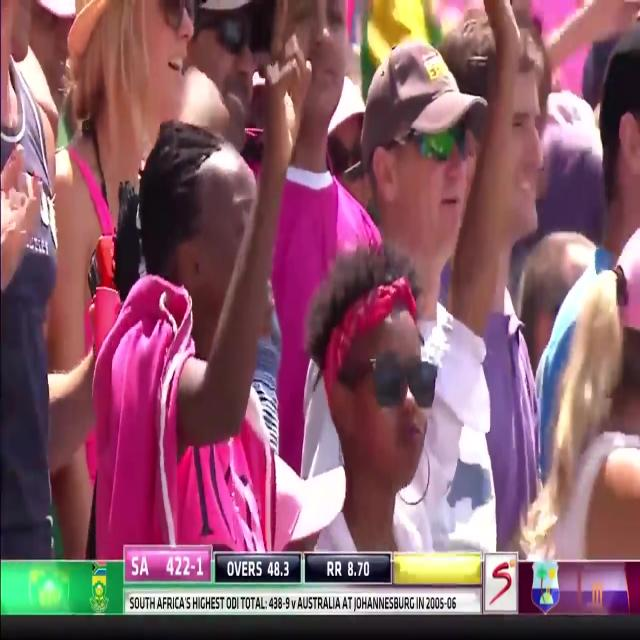Ball: (383, 0, 640, 561), (17, 0, 254, 556)
